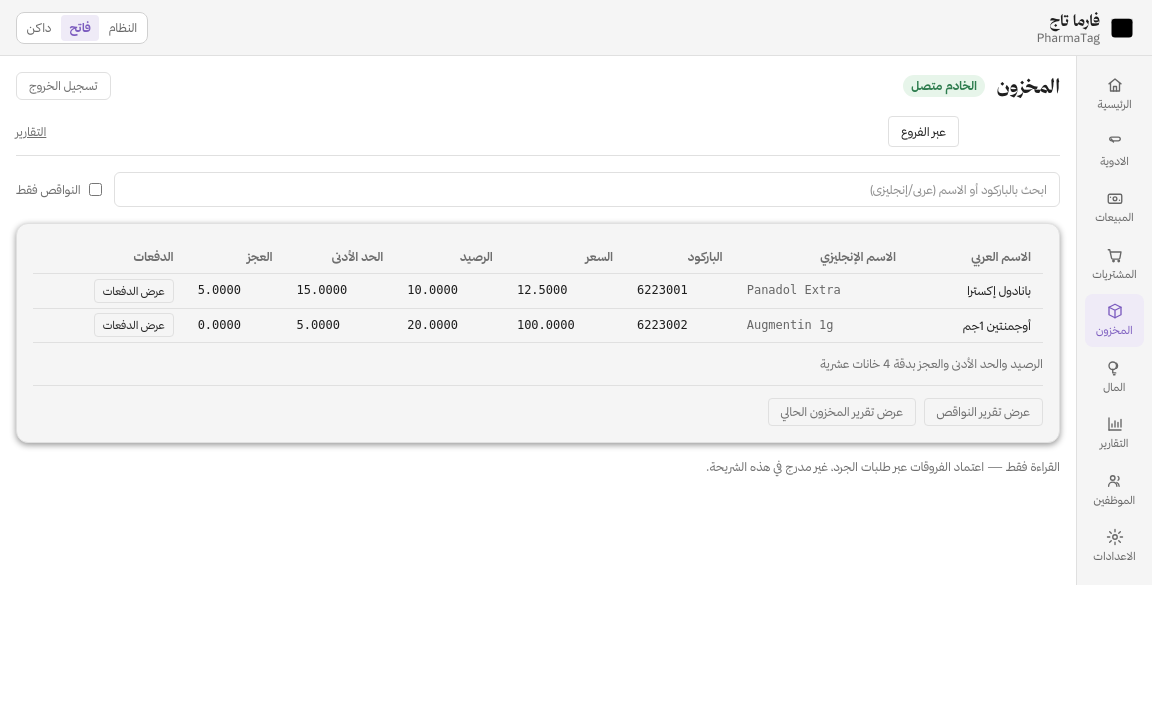
Test: StockPage — wiring & edge cases › renders current stock list with qty/minimum/shortage 4dp, barcode primary, branch name, batches collapsed
Click the button "عرض الدفعات" in the row of "بانادول إكسترا" at point(134, 291), box x1=94 y1=279 x2=174 y2=303
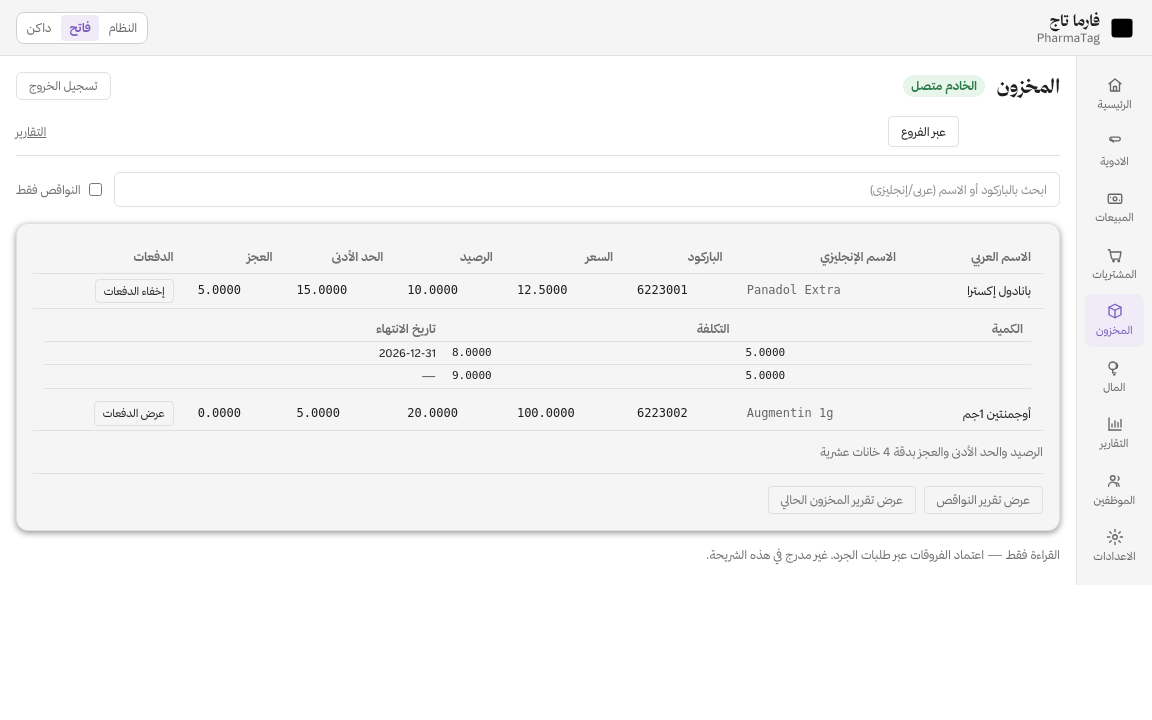
Check: the text "2026-12-31" is shown, box x1=45 y1=341 x2=444 y2=365
Check: the text "8.0000" is shown, box x1=444 y1=341 x2=737 y2=365
Check: the text "9.0000" is shown, box x1=444 y1=365 x2=737 y2=388
